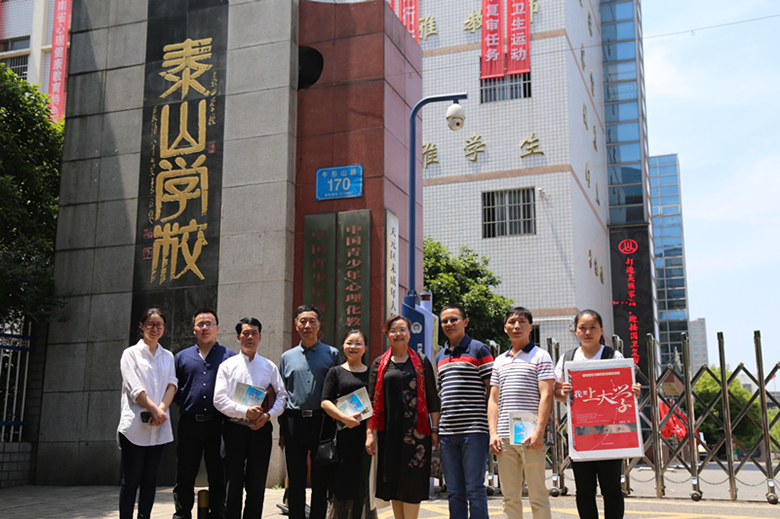other: (547, 301, 655, 513), (214, 288, 288, 508), (427, 300, 503, 513), (368, 292, 439, 517), (485, 309, 559, 513), (274, 301, 341, 516), (113, 302, 181, 509), (318, 328, 392, 511), (173, 310, 239, 513)
